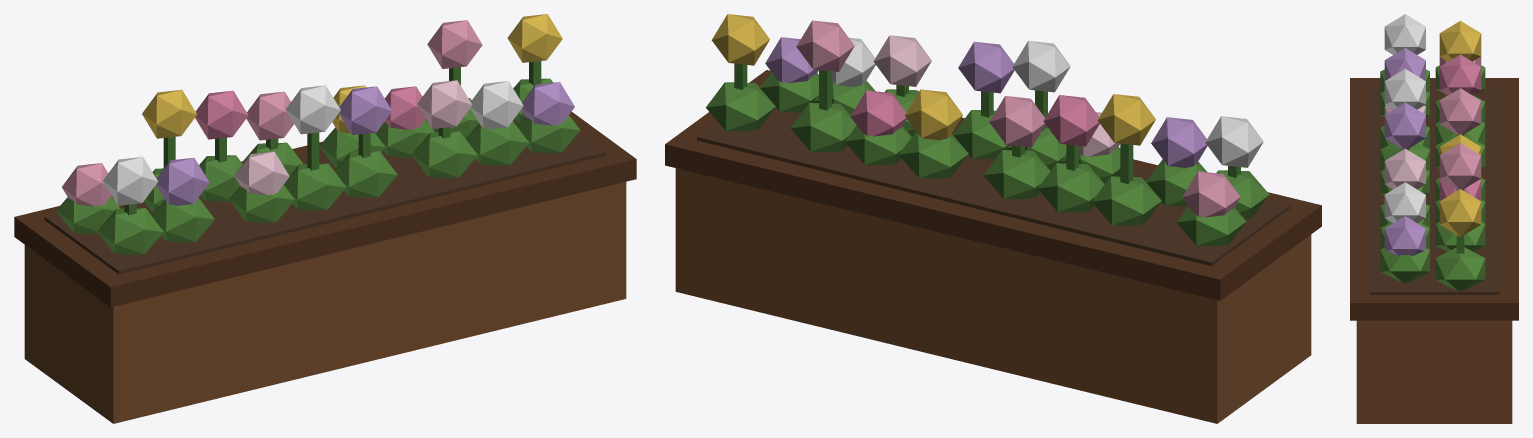
The model's file is c-raised-bed.glb.
3 renders of one model, left to right at view 1: azimuth 30°, elevation 25°; view 2: azimuth 150°, elevation 25°; view 3: azimuth 270°, elevation 25°, orthographic. The views are drawn at different scales.
Parts seen in each view (by area): view 1: c-raised-bed; view 2: c-raised-bed; view 3: c-raised-bed.
Part boxes in pixels (x1,y1,x2,y2): c-raised-bed: (14, 14, 636, 423); c-raised-bed: (665, 14, 1321, 423); c-raised-bed: (1350, 14, 1518, 423).
Bounding box in the file's own units: 0.902 × 0.4256 × 0.286.
